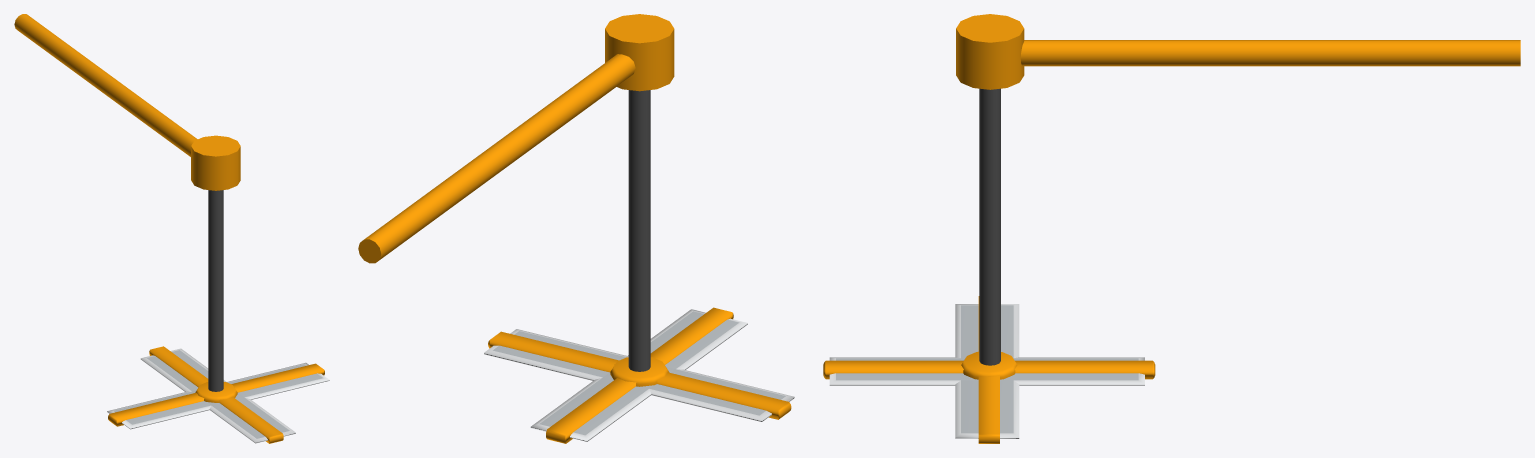
Rendered from trap_09.fbx.
3 renders of one model, left to right at view 1: azimuth 30°, elevation 25°; view 2: azimuth 150°, elevation 25°; view 3: azimuth 270°, elevation 25°, orthographic. The views are drawn at different scales.
Visible parts, largest first — view 1: trap_09_fan, trap_09; view 2: trap_09_fan, trap_09; view 3: trap_09_fan, trap_09.
Part boxes in pixels (x1,y1,x2,y2): trap_09_fan: [107, 190, 329, 443]; trap_09: [14, 14, 240, 190]; trap_09_fan: [484, 90, 794, 443]; trap_09: [358, 14, 674, 263]; trap_09_fan: [823, 88, 1155, 443]; trap_09: [956, 14, 1520, 89].
Bounding box in the file's own units: 968 × 1127 × 2034.
1 material, 1 textured.
